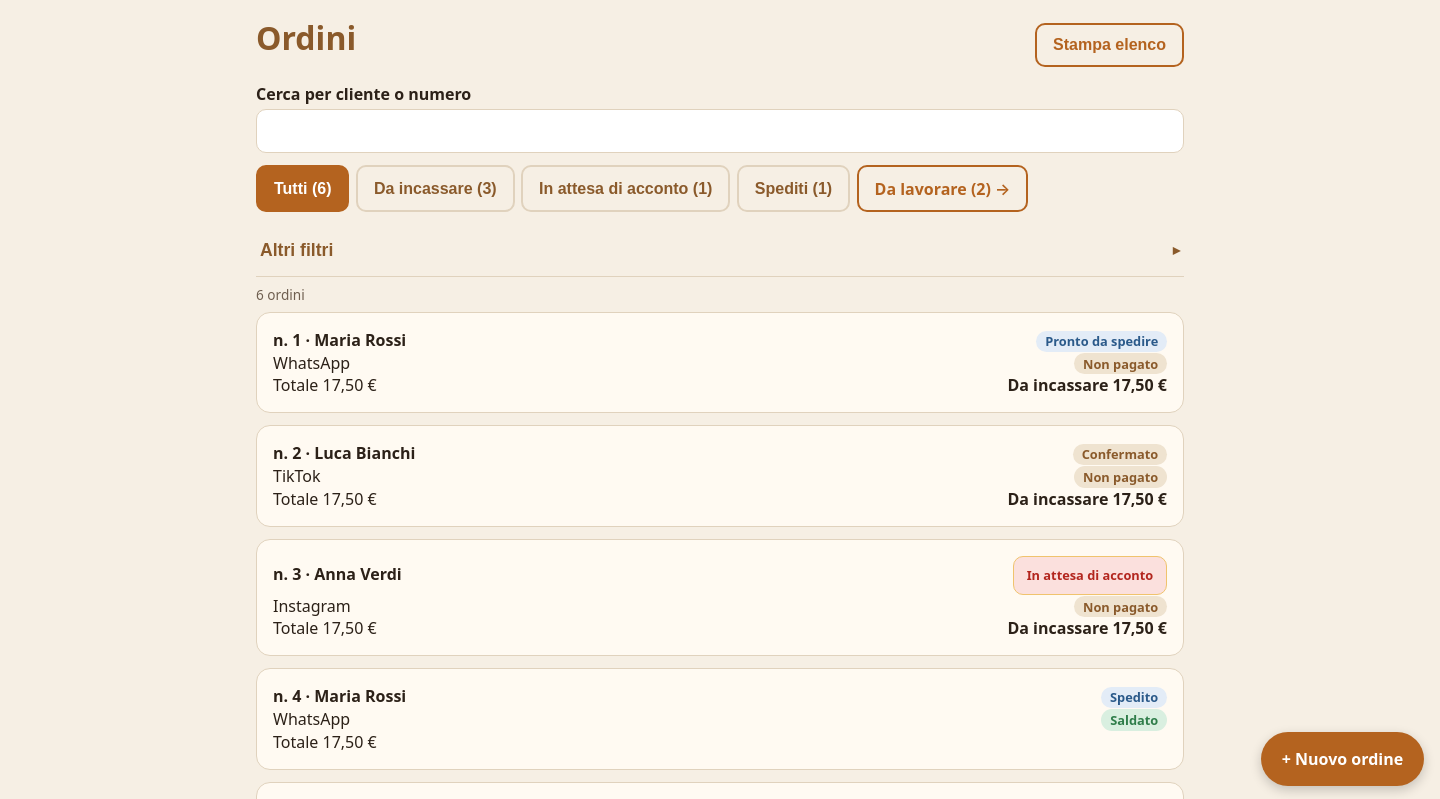
Test: ricerca › nessun risultato
Type "zzz" into the field labelled "Cerca per cliente o numero" at (720, 131), box [256,109,1184,153]
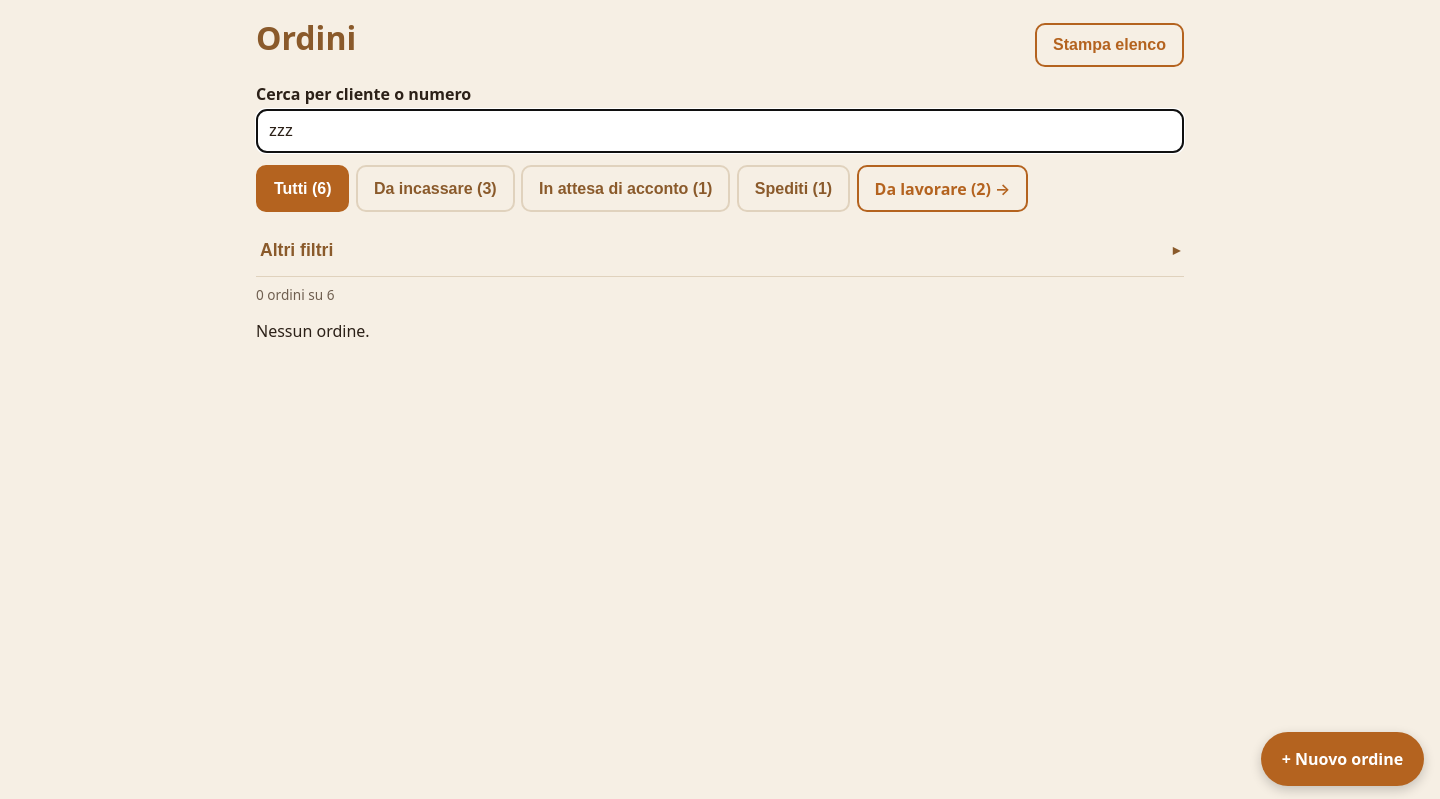
Now the text "Nessun ordine." is shown, box [256,320,370,342]
